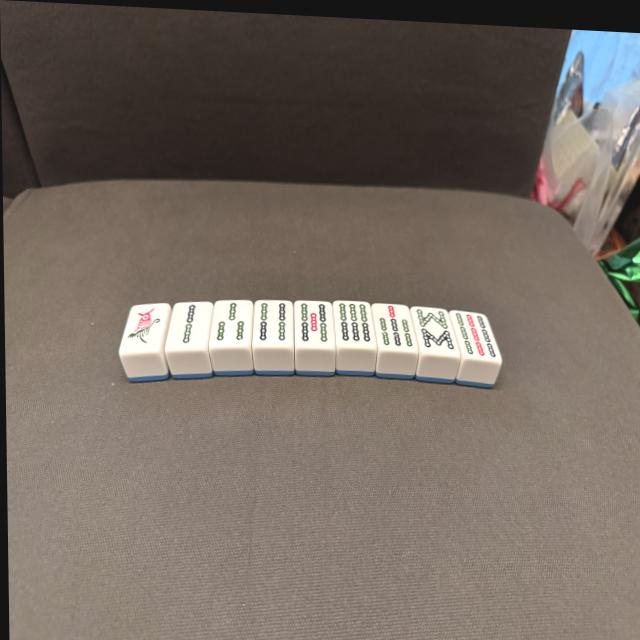s1: (122, 304, 166, 353)
s2: (171, 301, 208, 350)
s3: (213, 302, 251, 348)
s4: (254, 302, 295, 348)
s5: (295, 302, 337, 349)
s6: (336, 304, 378, 349)
s7: (374, 303, 420, 352)
s8: (412, 307, 461, 355)
s9: (450, 310, 500, 360)
